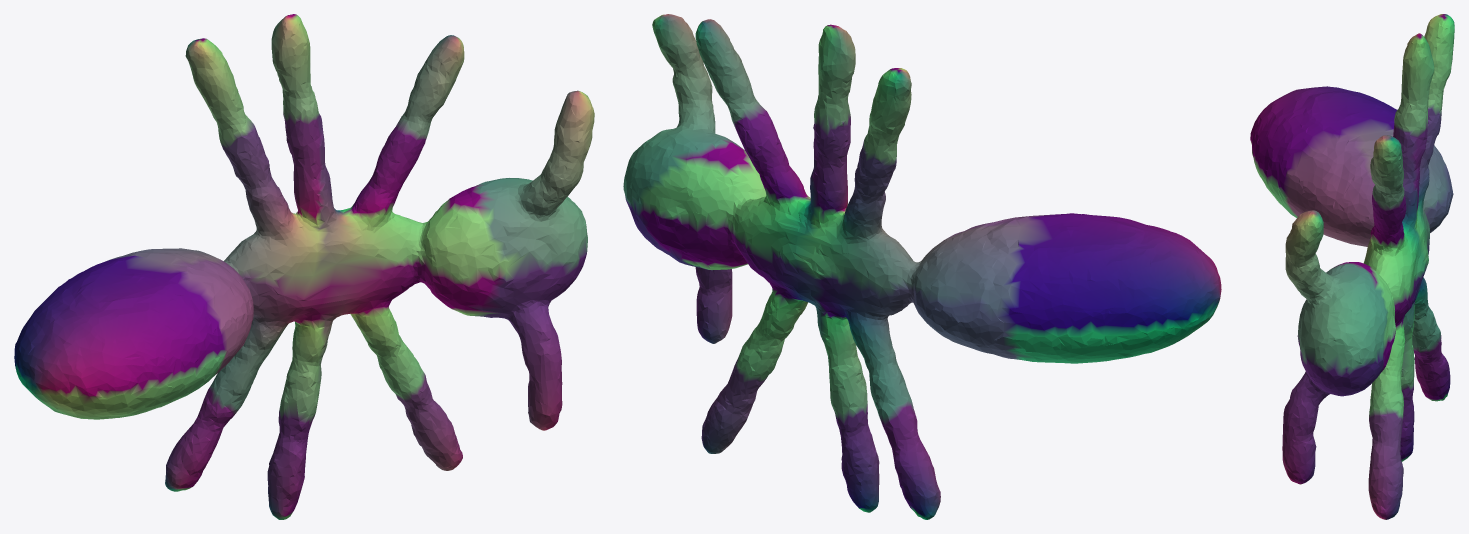
File: ant-19.off.obj
The picture shows the model from 3 angles, left to right: view 1: azimuth 30°, elevation 25°; view 2: azimuth 150°, elevation 25°; view 3: azimuth 270°, elevation 25°; orthographic projection. The views are drawn at different scales.
Bounding box in the file's own units: 1.68 × 1.38 × 0.5853.
